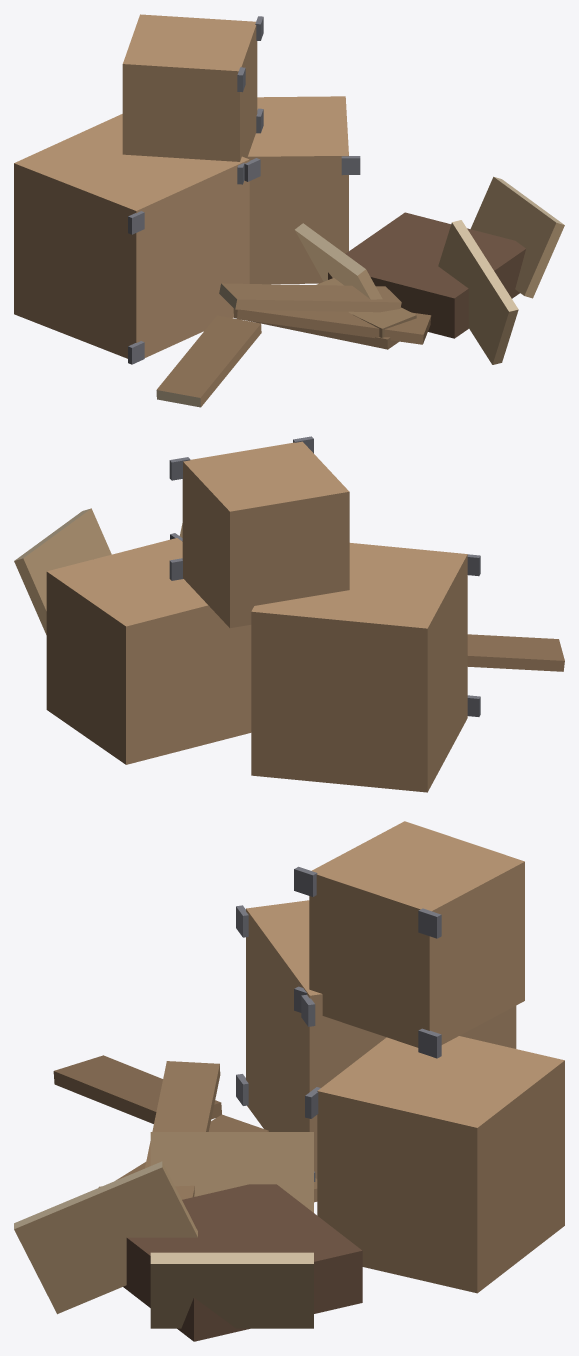
The model's file is crate_pile.glb.
3 views of the same model, one above another, from view 1: azimuth 30°, elevation 25°; view 2: azimuth 150°, elevation 25°; view 3: azimuth 270°, elevation 25° (orthographic). The views are drawn at different scales.
Parts seen in each view (by area): view 1: crate_pile; view 2: crate_pile; view 3: crate_pile.
Part boxes in pixels (<box>): crate_pile: <box>14,14,564,407</box>; crate_pile: <box>14,436,564,792</box>; crate_pile: <box>14,821,564,1341</box>.
Bounding box in the file's own units: 2.71 × 1.56 × 2.29.
